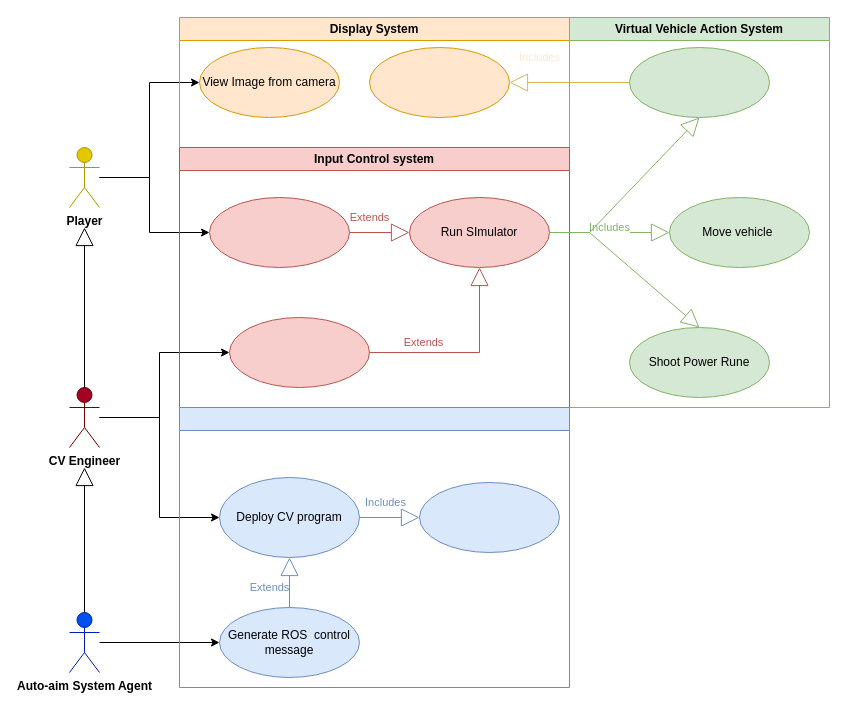
The diagram is 847 pixels wide and 711 high, and some of its shapes have lost their labels. The shapes that lost their labels are listed below. From the top down, each one's box as (x1, y1, x2, y2) in pixels, then its label:
(368, 46, 510, 118): Move Camera
(628, 46, 770, 118): Rotate gimbal
(208, 196, 350, 268): Keyboard Control
(228, 316, 370, 388): ROS masseges Control
(418, 482, 560, 552): Object Detection
(178, 406, 570, 688): Computer Vision Algorithm System
